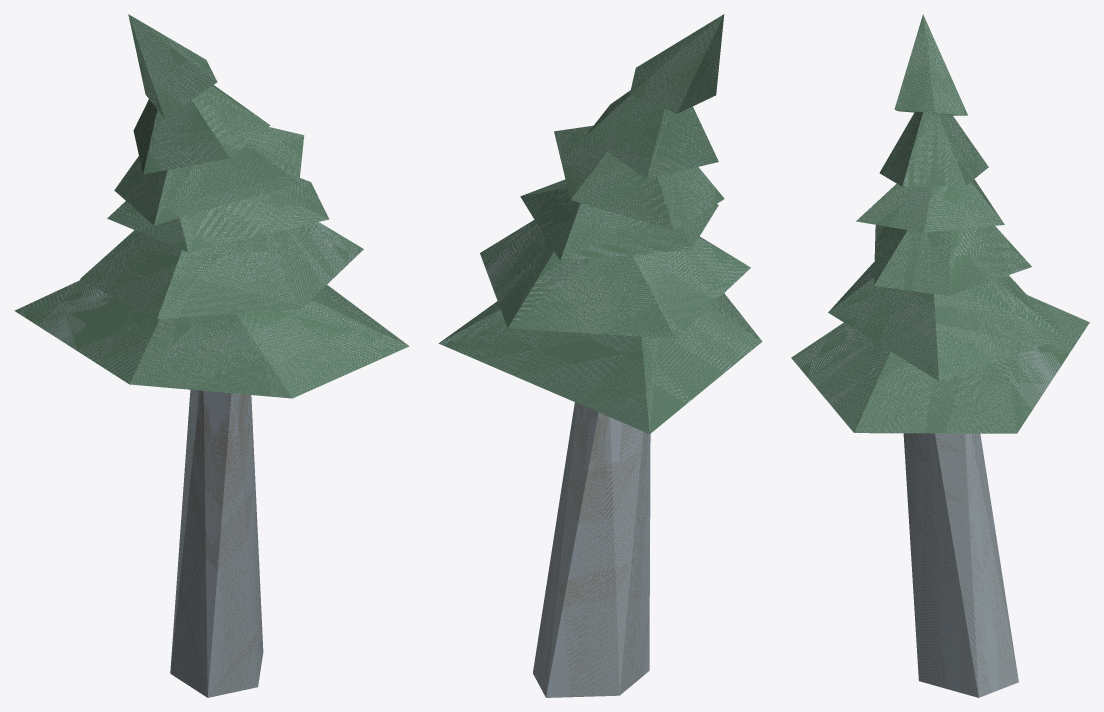
The model's file is Tree_Pine_Tall_06.fbx.
3 views of the same model, side by side, from view 1: azimuth 30°, elevation 25°; view 2: azimuth 150°, elevation 25°; view 3: azimuth 270°, elevation 25° (orthographic). The views are drawn at different scales.
Visible parts, largest first — view 1: Model; view 2: Model; view 3: Model.
Boxes of the visible parts, bbox=[...] form: Model: bbox=[14, 14, 409, 697]; Model: bbox=[438, 14, 762, 697]; Model: bbox=[791, 14, 1089, 697].
Size of the model in its own units: 585 by 1486 by 657.
